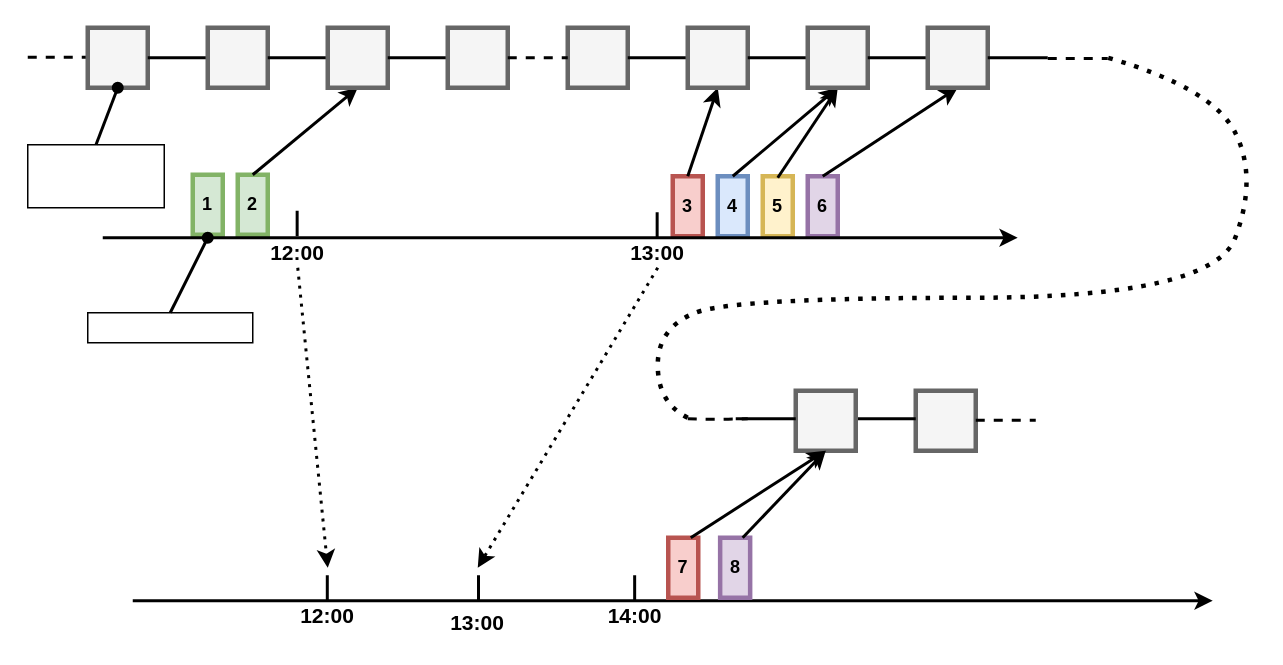
Image size: 1283x665. Some labels were removed from this diagram. The shapes that lost their labels are listed below. From the top down, each one's centre as x and y in pixels, then its label:
the point at 95,175: Sidechain block
the point at 169,327: Transaction
